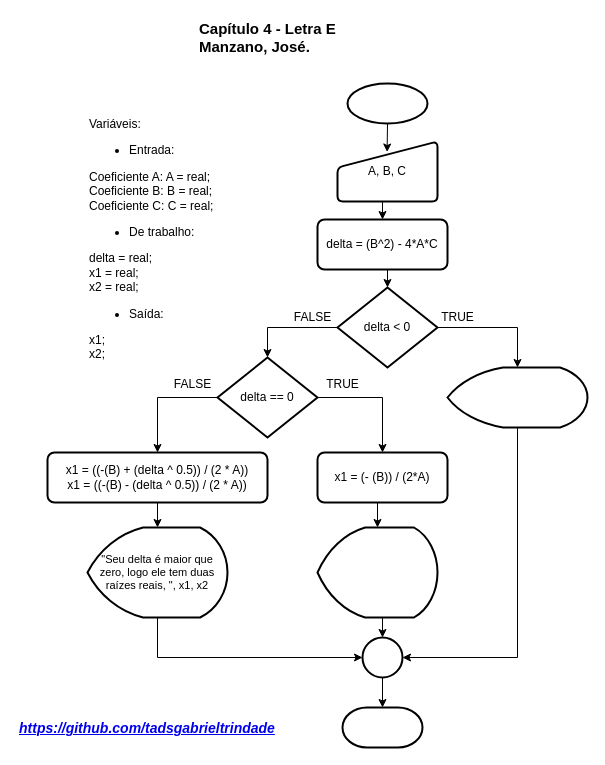
The diagram is 605 pixels wide and 765 high, and some of its shapes have lost their labels. Each missing label, with the centre of its shape:
"Seu delta é igual a zero, logo ele tem uma raiz real, ", x1: (x=377, y=572)
"Seu delta é negativo, logo não tem raiz real": (x=517, y=397)
Fim: (x=382, y=727)
Início: (x=387, y=103)
